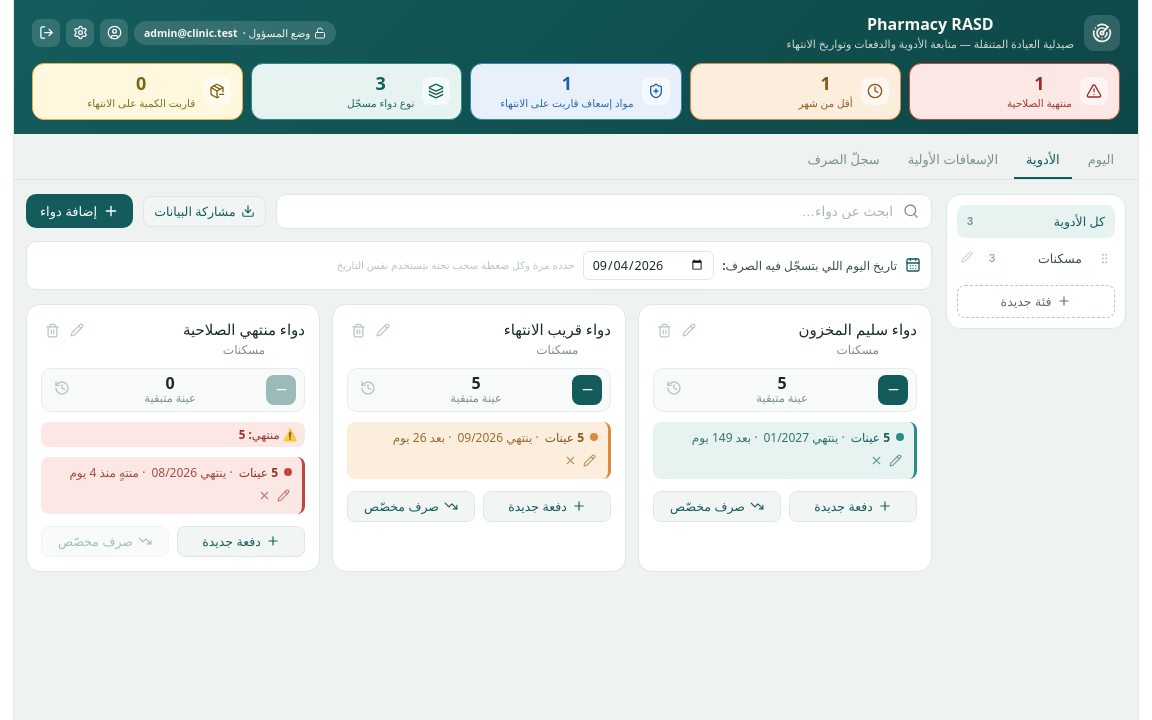
Test: KPI cards — clickable dashboard shortcuts › 'أقل من شهر' opens Medications filtered to approaching-expiry stock, excluding already-expired medications
The width and height of the screenshot is (1152, 720).
Click the button "1 أقل من شهر" at {"x": 795, "y": 91}, box [690,63,901,120]
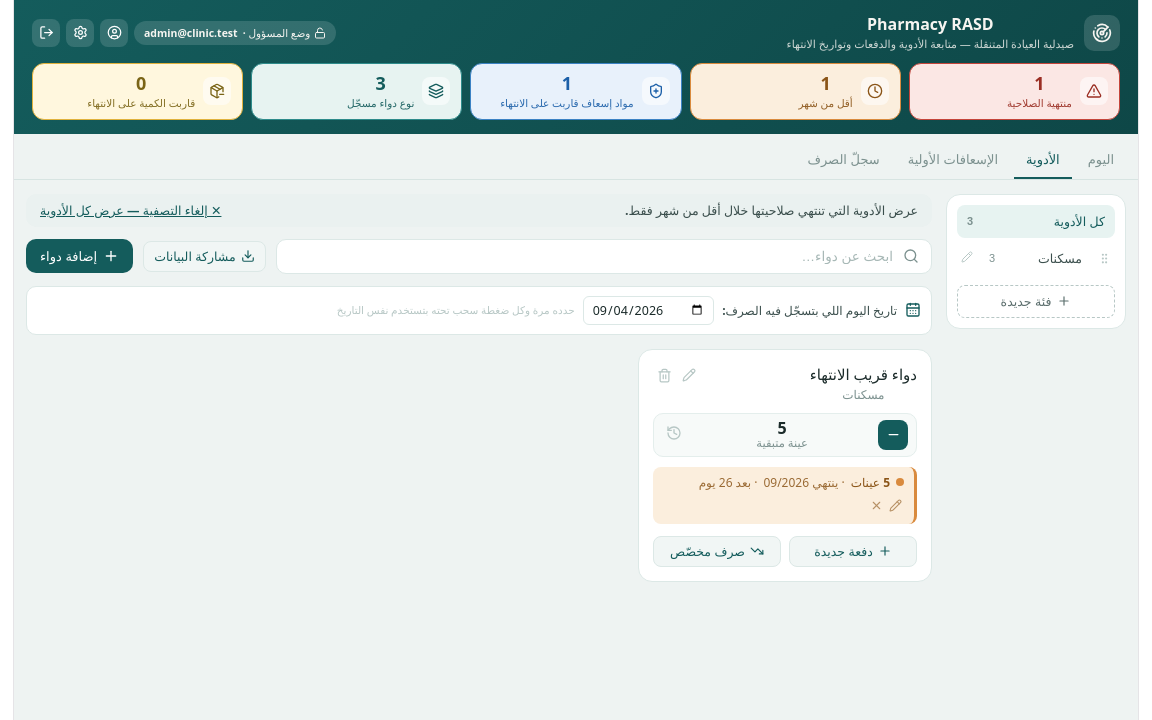
expect the text "دواء قريب الانتهاء" is shown: met, box [810,364,917,384]
expect the text "دواء منتهي الصلاحية" is gone: met
expect the text "دواء سليم المخزون" is gone: met
